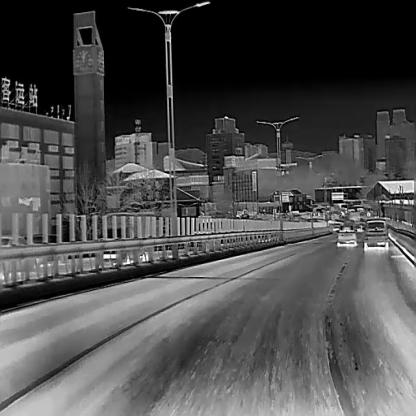car: (364, 217, 387, 247), (336, 223, 356, 246)
